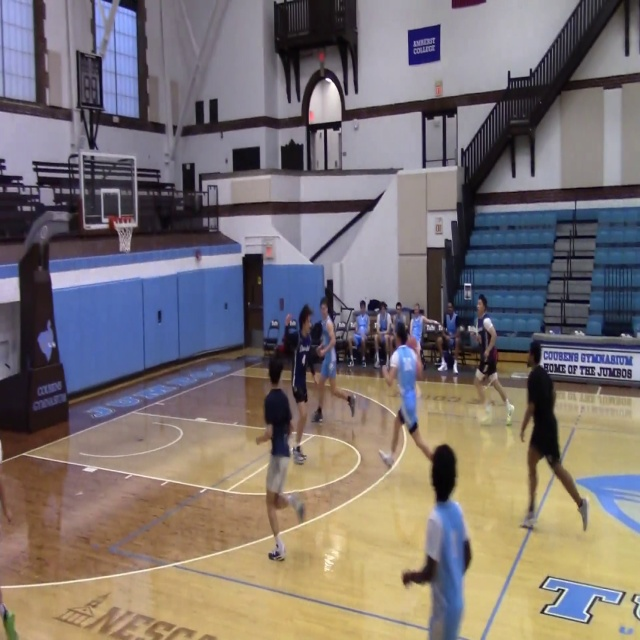Basketball: (406, 335, 420, 355), (316, 347, 325, 358)
